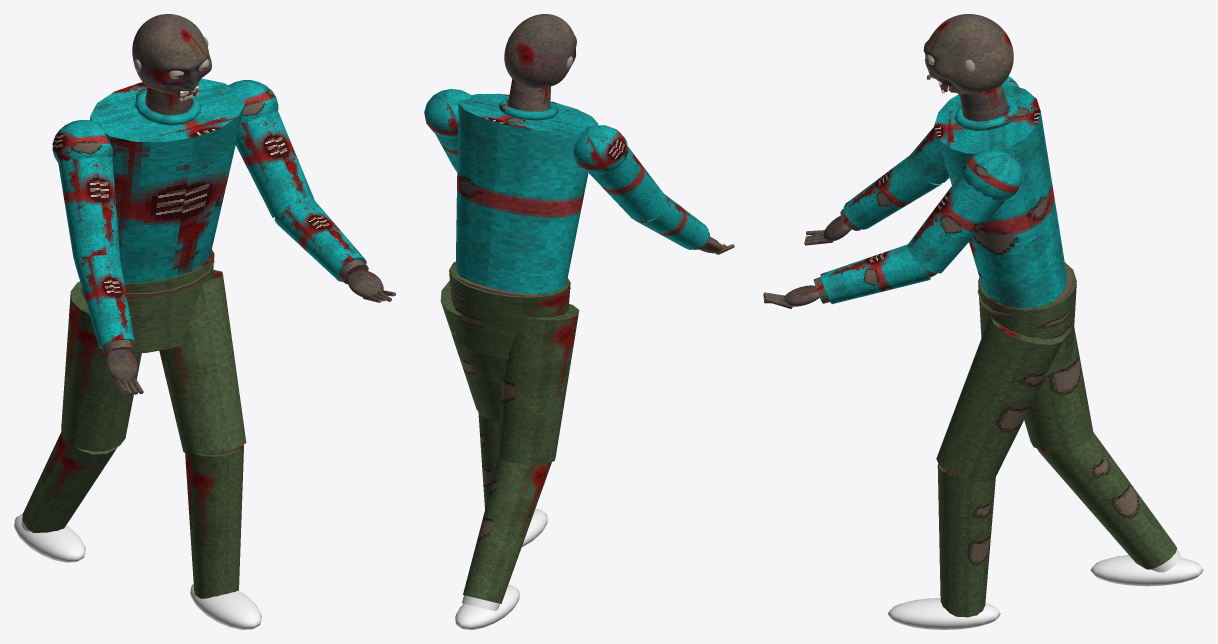
The model's file is Zombie_006.glb.
3 views of the same model, side by side, from view 1: azimuth 30°, elevation 25°; view 2: azimuth 150°, elevation 25°; view 3: azimuth 270°, elevation 25° (orthographic). The views are drawn at different scales.
Visible parts, largest first — view 1: Zombie_006, object 18, object 4, object 12, object 5, object 13; view 2: Zombie_006, object 18, object 4; view 3: Zombie_006, object 18, object 12, object 4.
Part boxes in pixels (x1=…): Zombie_006: x1=14, y1=78, x2=314, y2=629; object 18: x1=132, y1=14, x2=212, y2=95; object 4: x1=74, y1=254, x2=134, y2=348; object 12: x1=274, y1=199, x2=366, y2=282; object 5: x1=106, y1=349, x2=137, y2=381; object 13: x1=347, y1=270, x2=383, y2=296; Zombie_006: x1=424, y1=79, x2=666, y2=629; object 18: x1=504, y1=14, x2=576, y2=87; object 4: x1=634, y1=194, x2=708, y2=249; Zombie_006: x1=888, y1=76, x2=1203, y2=629; object 18: x1=923, y1=14, x2=1013, y2=95; object 12: x1=820, y1=244, x2=930, y2=304; object 4: x1=843, y1=155, x2=941, y2=229.
Bounding box in the file's own units: 0.7545 × 1.71 × 1.16.
15 materials, 5 textured.
